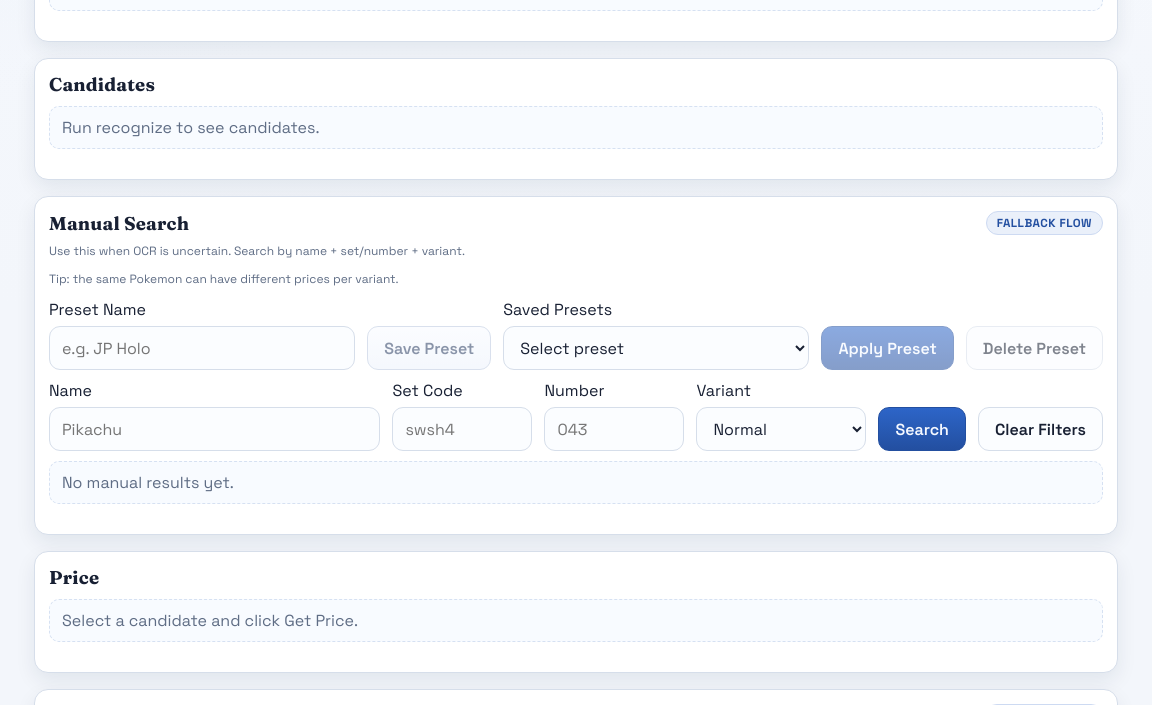
Scenario: HomePage › applies a saved preset to filters
(page scrolled)
Select "KR Promo (KR/KO)" in the dropdown labelled "Saved Presets" at [656, 348], box [503,326,810,370]
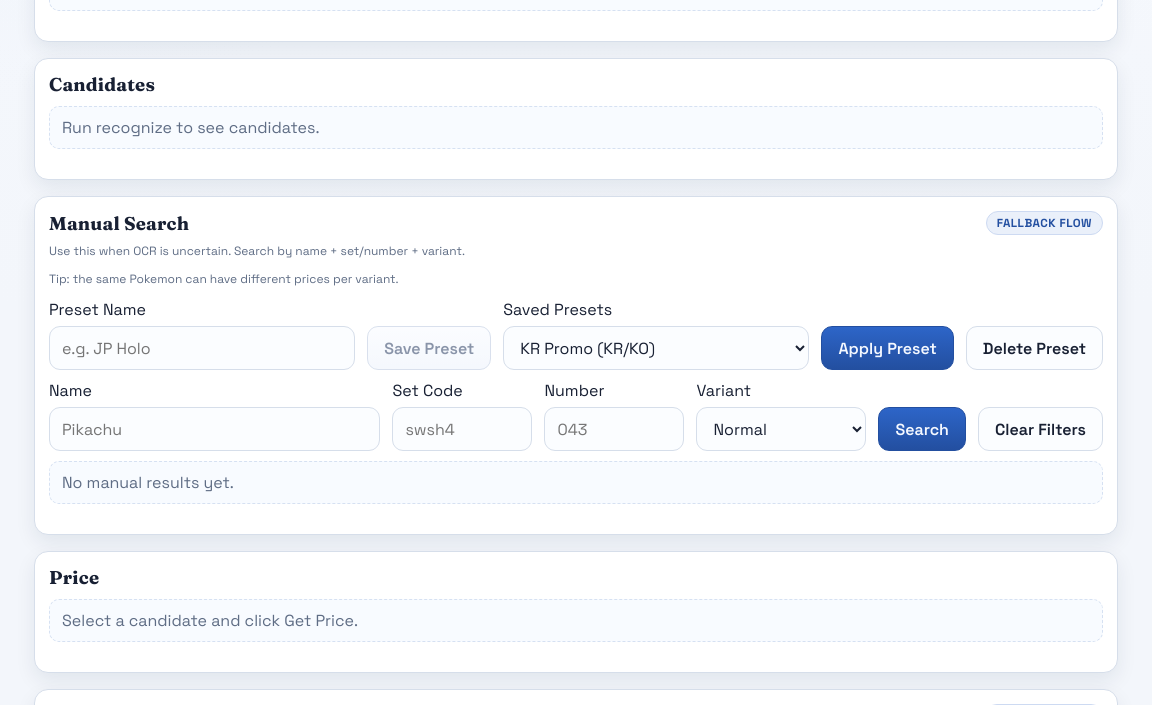
Click the button "Apply Preset" at [888, 348], box [822,326,954,370]
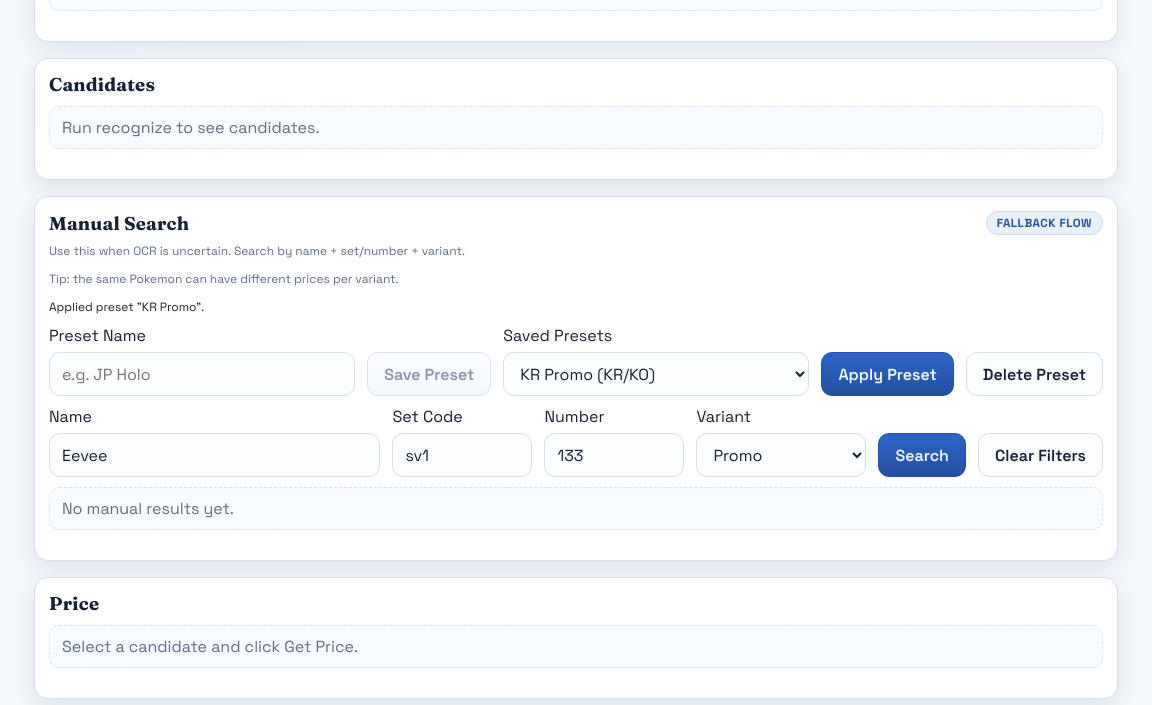
expect the field labelled "Name" holds "Eevee": met, box [49,433,380,477]
expect the field labelled "Set Code" holds "sv1": met, box [392,433,532,477]
expect the field labelled "Number" holds "133": met, box [544,433,684,477]
